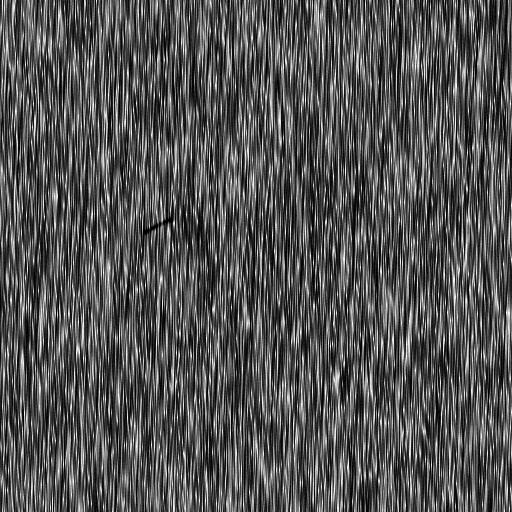DefectTypeC: (145, 215, 175, 236)
